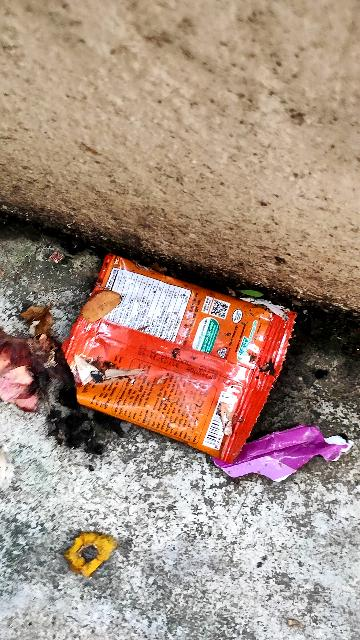packet: (59, 244, 297, 467)
